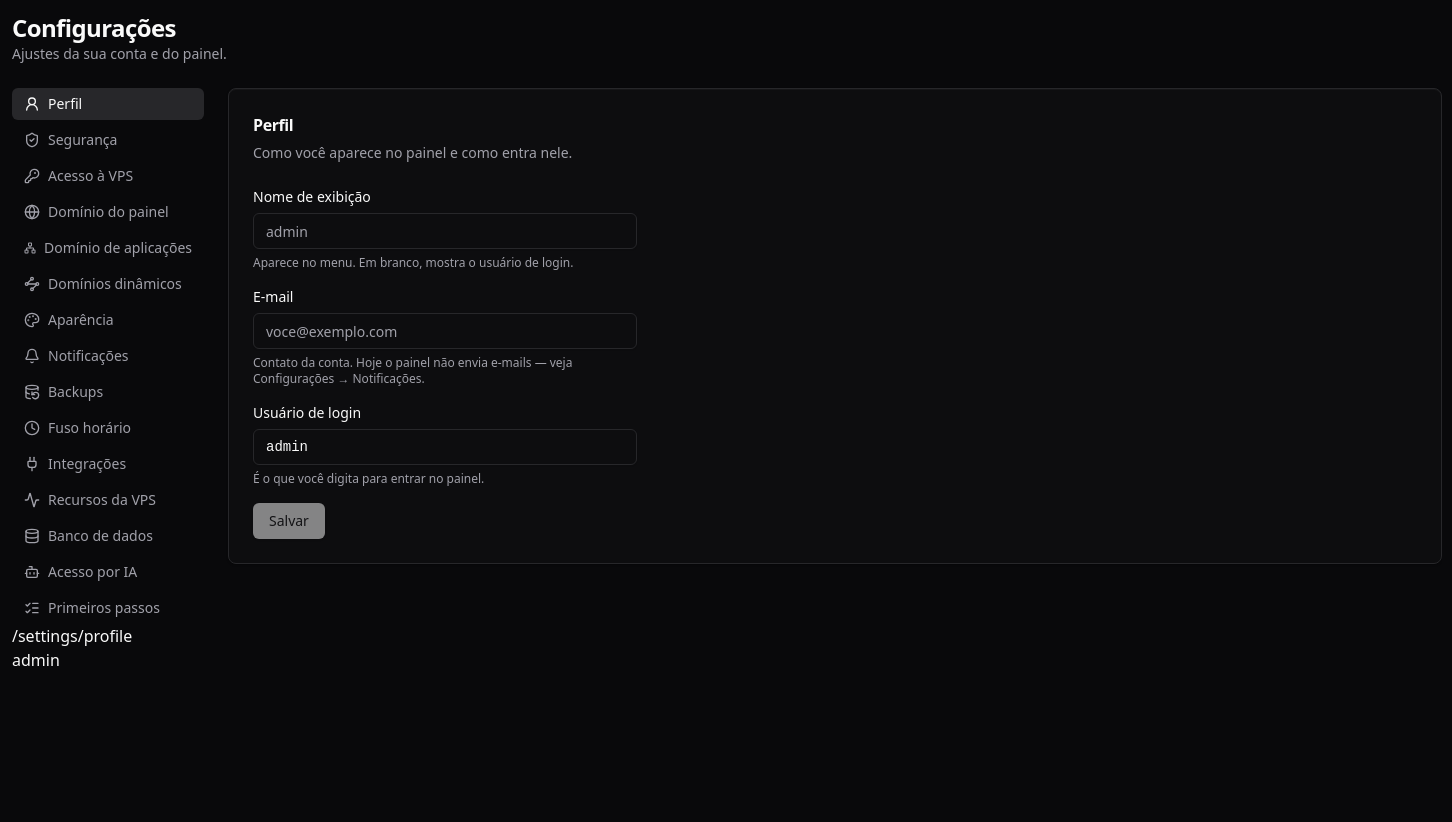
Test: Configurações — seções › Domínio do painel tem a sua seção e endereço (/settings/panel-domain)
Click the link "Domínio do painel" at (96, 212), box [24, 202, 169, 221]
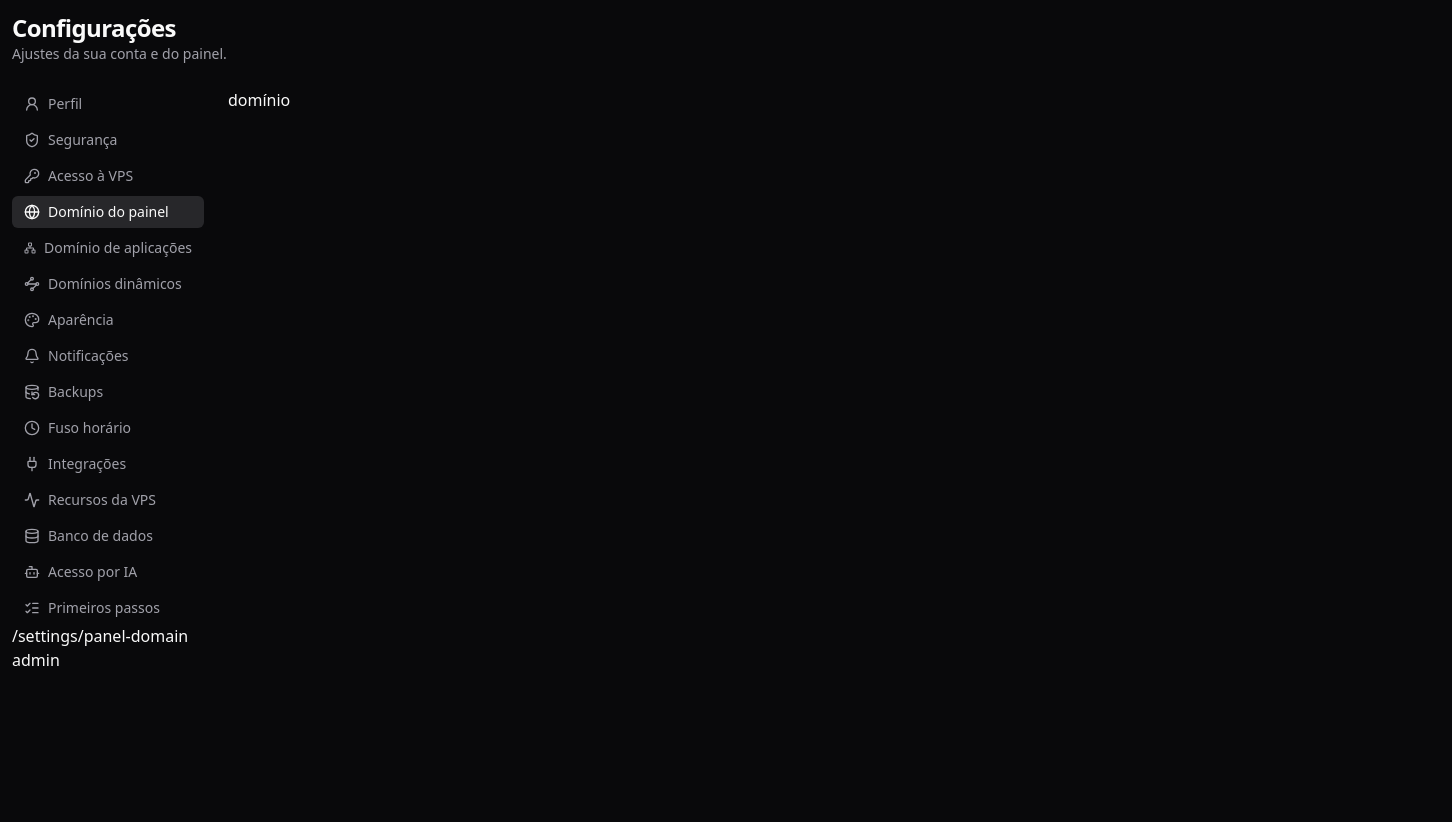
Check: the text with test id "where" reads "/settings/panel-domain", box [12, 625, 188, 647]
